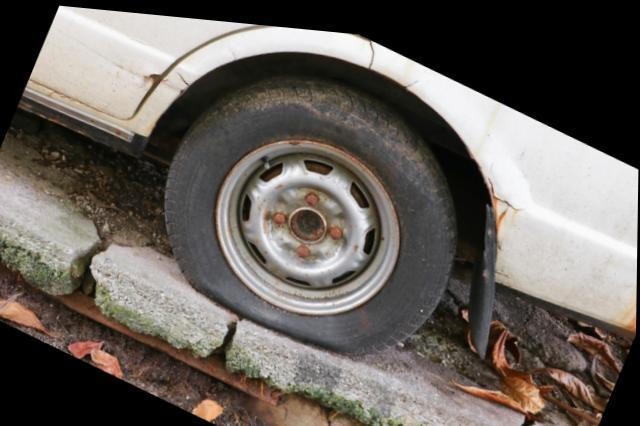tire flat: (164, 70, 456, 351)
